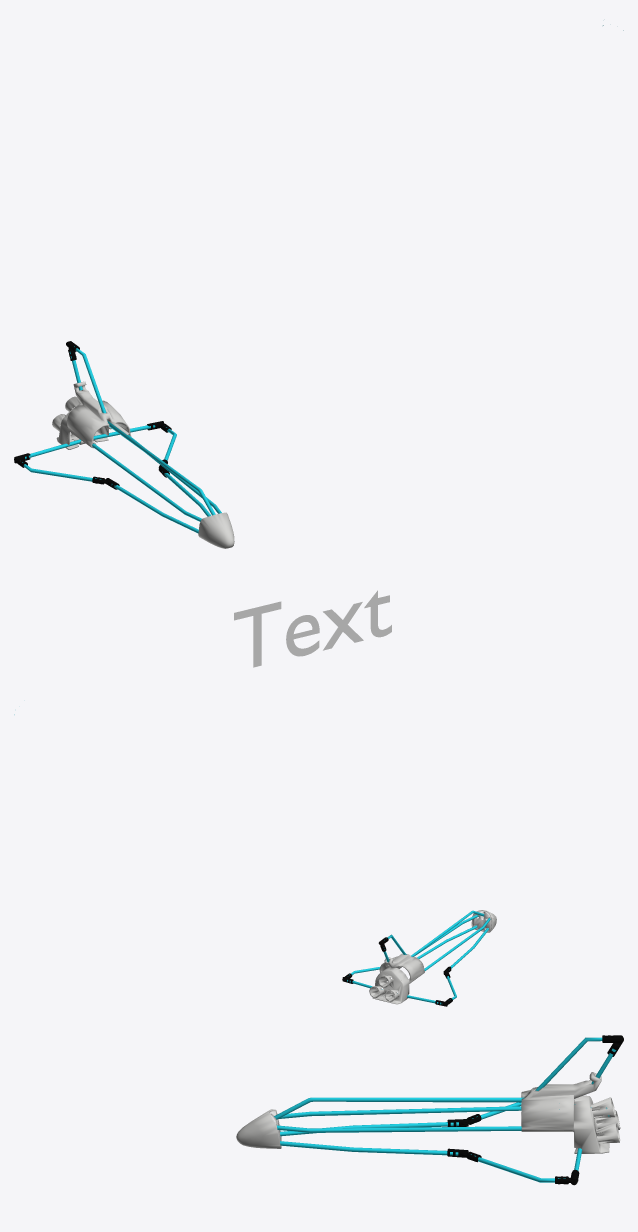
File: Space_Shuttle_Animation_Sequance.gltf
3 views of the same model, one above another, from view 1: azimuth 30°, elevation 25°; view 2: azimuth 150°, elevation 25°; view 3: azimuth 270°, elevation 25° (orthographic). The views are drawn at different scales.
Visible parts, largest first — view 1: Text, Zbrush Too Blender 1.255, Zbrush Too Blender 1.256; view 2: Zbrush Too Blender 1.255; view 3: Zbrush Too Blender 1.255, Cylinder.018, Cylinder.029, Cylinder.030, Zbrush Too Blender 1.256, Cylinder.026, Cylinder.027, Cylinder.023, Cylinder.031.
Part boxes in pixels (x1,y1,x2,y2): Text: (234,590,391,667); Zbrush Too Blender 1.255: (52,381,131,449); Zbrush Too Blender 1.256: (198,512,234,548); Zbrush Too Blender 1.255: (369,953,424,1004); Zbrush Too Blender 1.255: (521,1072,620,1153); Cylinder.018: (274,1097,524,1119); Cylinder.029: (276,1125,521,1132); Cylinder.030: (279,1106,521,1118); Zbrush Too Blender 1.256: (236,1109,281,1148); Cylinder.026: (280,1141,458,1155); Cylinder.027: (280,1122,458,1136); Cylinder.023: (471,1154,565,1182); Cylinder.031: (535,1037,602,1090).
Size of the model in its own units: 565 by 283 by 406.
